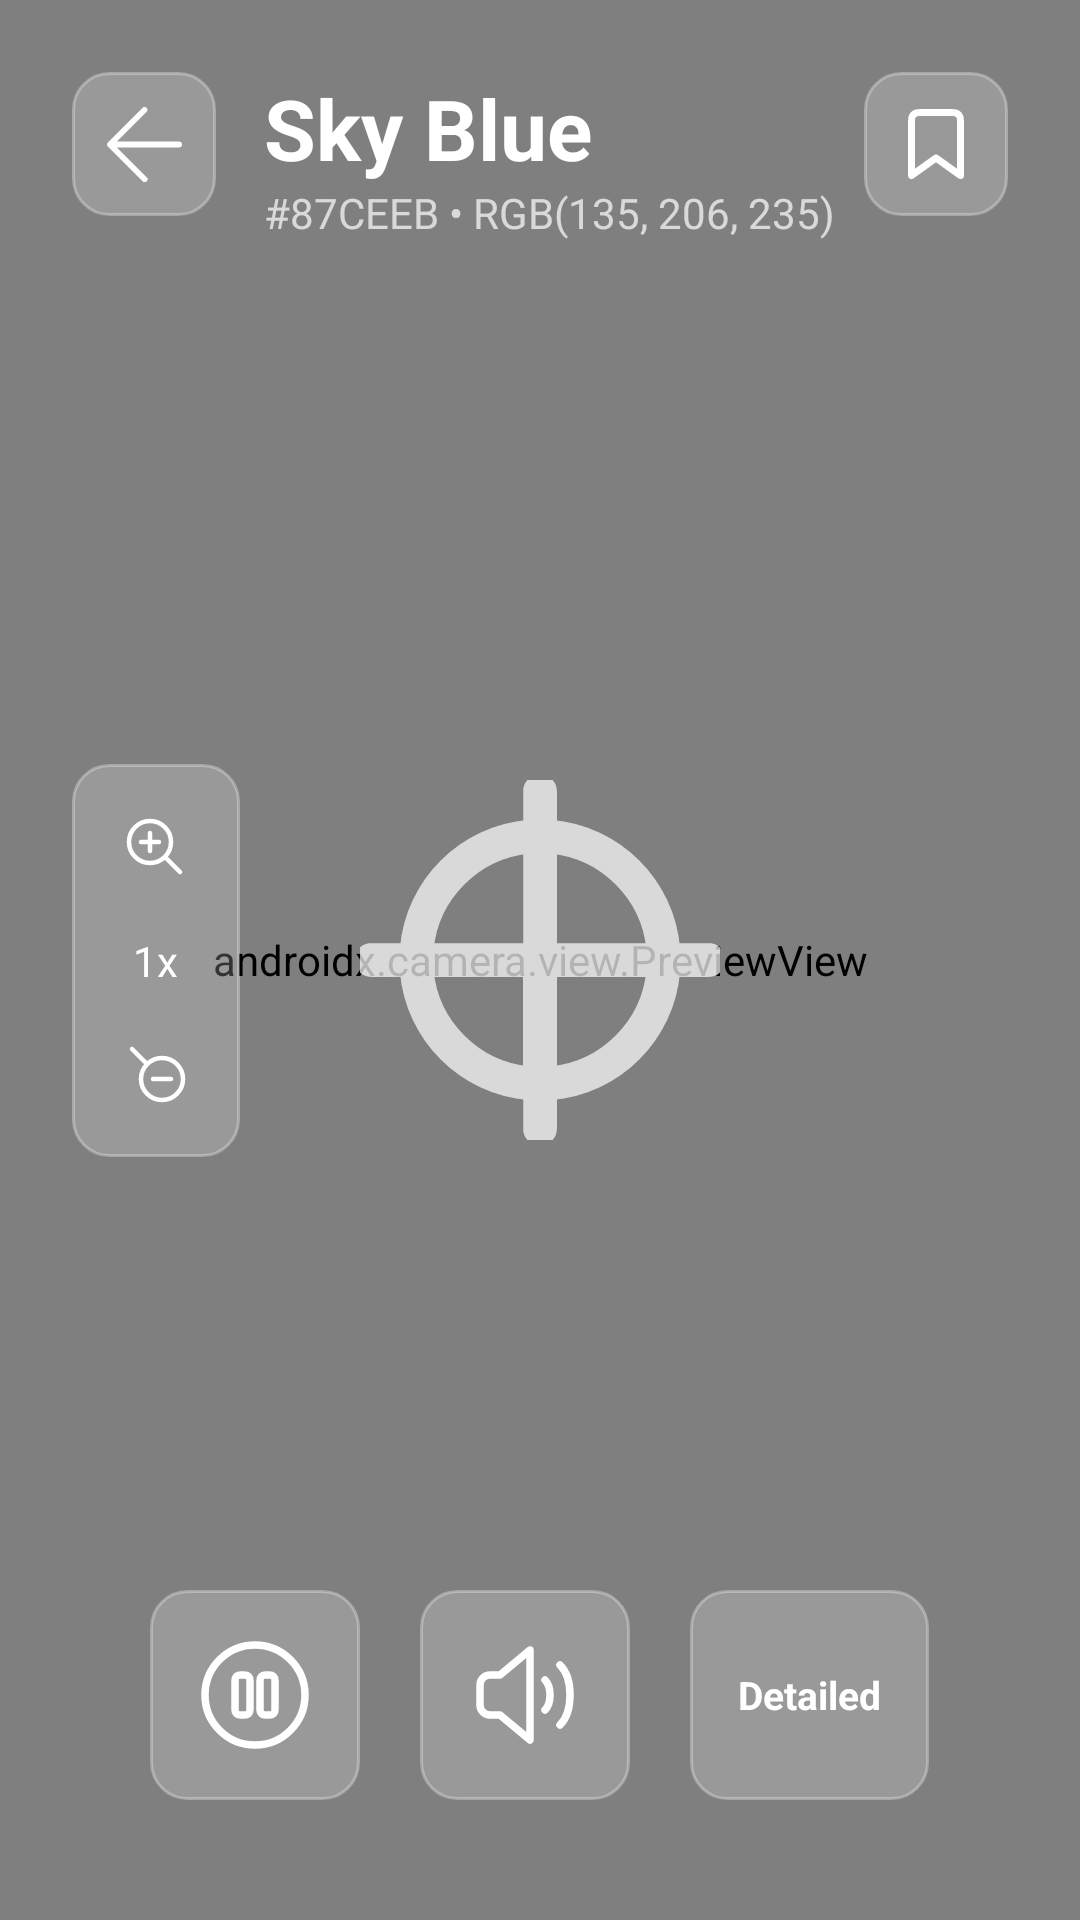

Icon click points for this 1080×1920 phone screenshot, format point (x, y):
arrow back: point (144, 144)
bookmark: point (936, 144)
freeze: point (255, 1695)
speak: point (525, 1695)
zoom in: point (154, 846)
